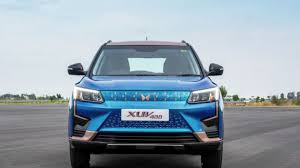XUV 400: (66, 37, 225, 168)
